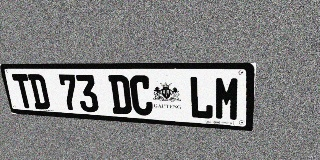3: (75, 75, 99, 113)
7: (57, 74, 81, 111)
C: (129, 75, 154, 116)
D: (108, 75, 132, 115), (28, 74, 51, 110)
L: (189, 76, 214, 120)
M: (214, 76, 241, 121)
T: (12, 74, 35, 109)
